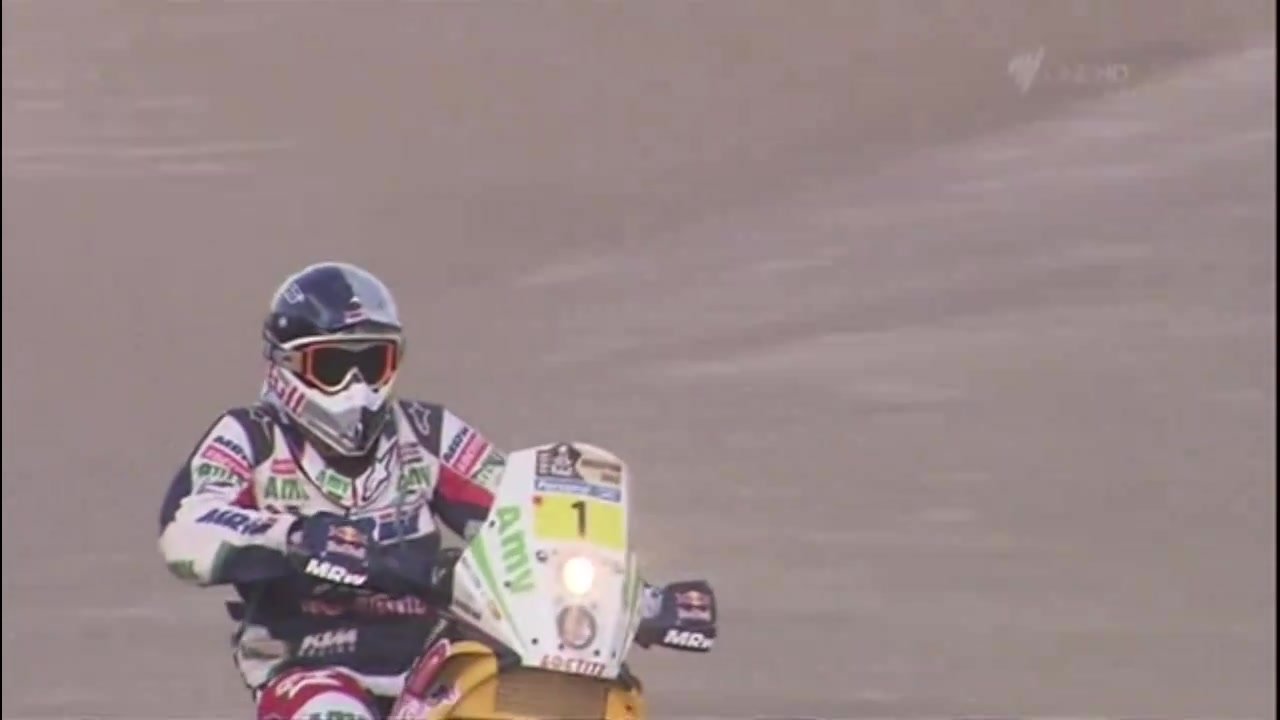motorbike: (318, 443, 718, 720)
